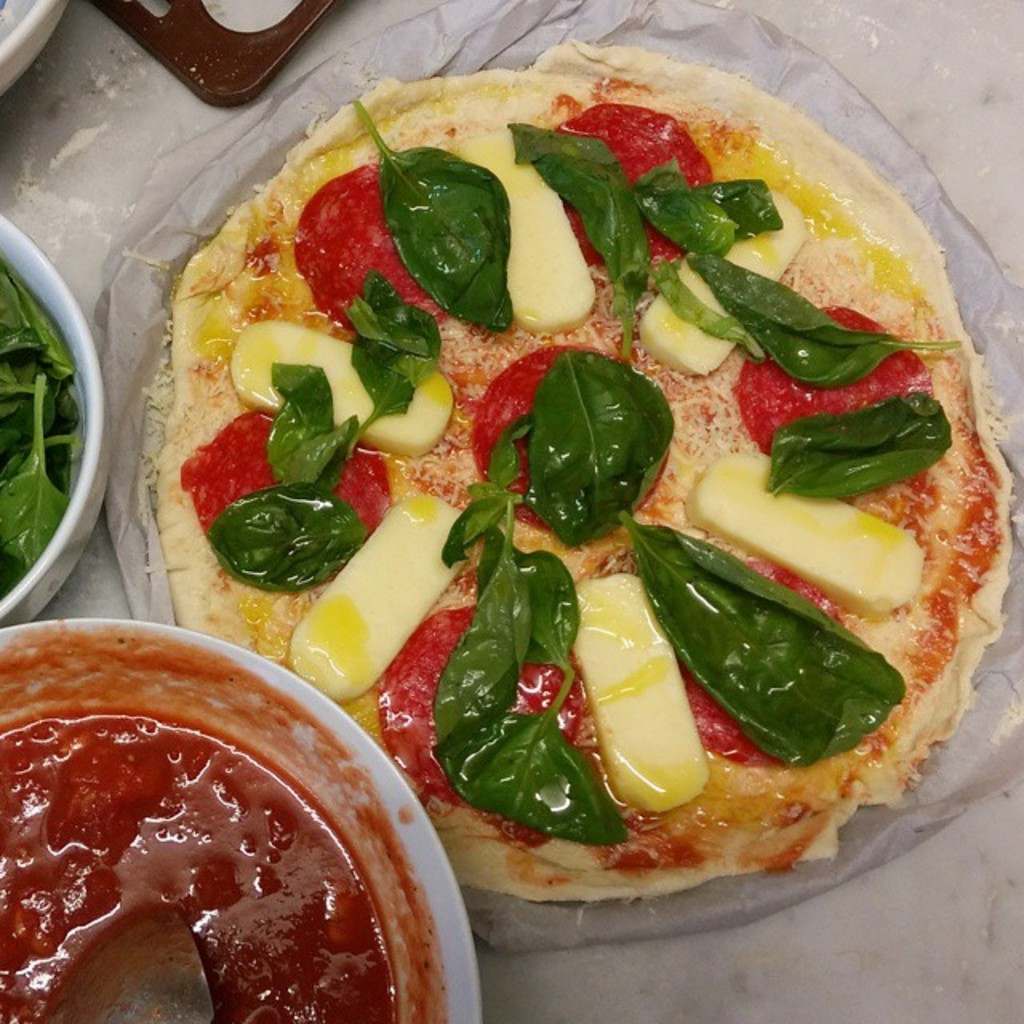Pizza: (135, 56, 1020, 903)
